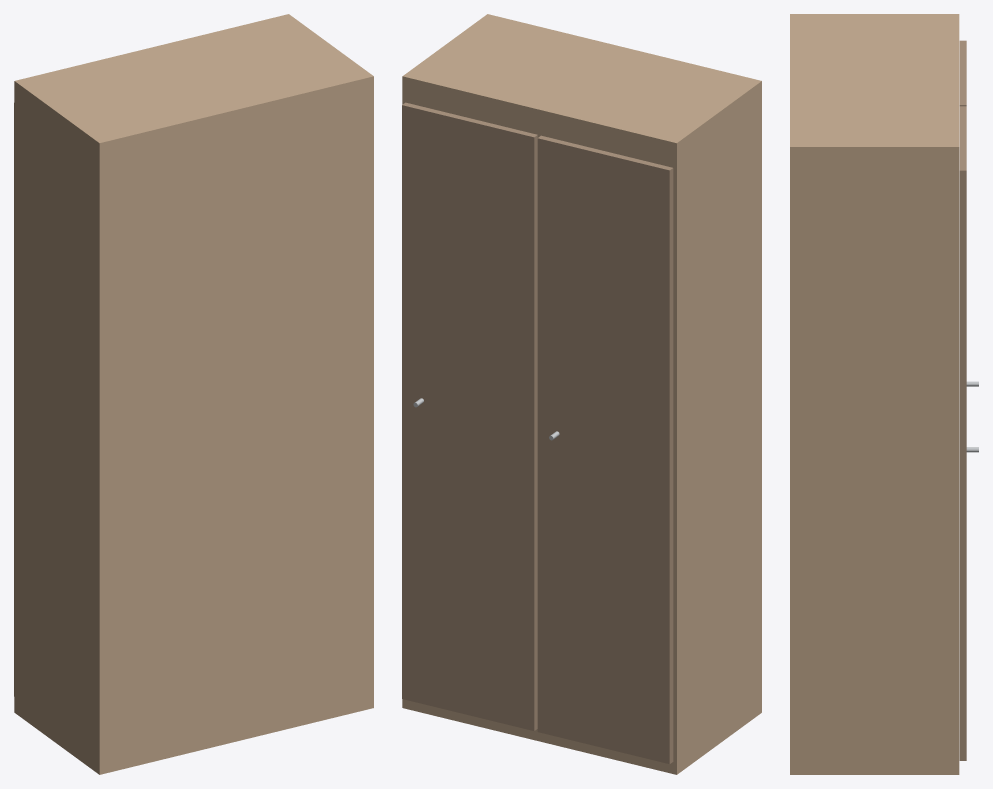
Rendered from wardrobe-2.glb.
3 renders of one model, left to right at view 1: azimuth 30°, elevation 25°; view 2: azimuth 150°, elevation 25°; view 3: azimuth 270°, elevation 25°, orthographic.
Visible parts, largest first — view 1: body_0; view 2: body_0, door_1, door_3; view 3: body_0, door_3, door_1.
Boxes of the visible parts, x1,y1,x2,y2 form: body_0: [14, 14, 373, 774]; body_0: [402, 14, 761, 774]; door_1: [537, 135, 673, 764]; door_3: [402, 102, 537, 730]; body_0: [790, 14, 959, 774]; door_3: [959, 106, 966, 760]; door_1: [959, 40, 966, 106].
Bounding box in the file's own units: 1 × 2.2 × 0.6.
